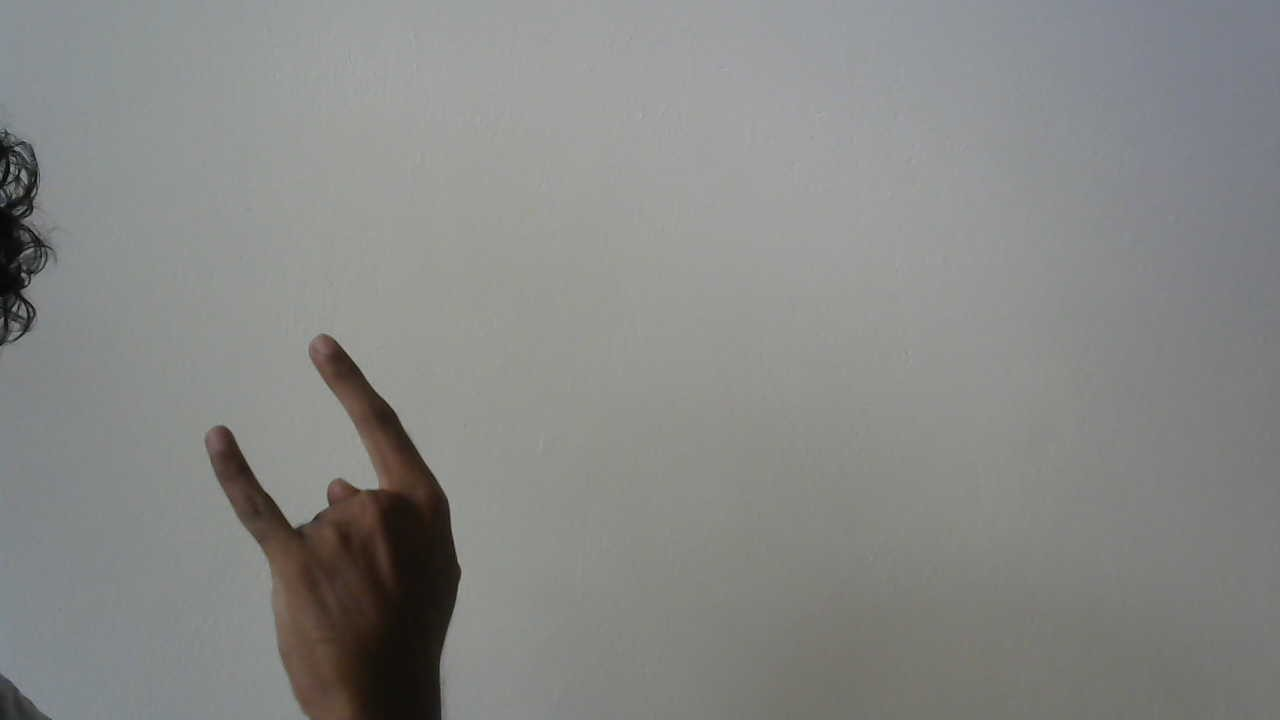iloveyou: (191, 319, 471, 691)
